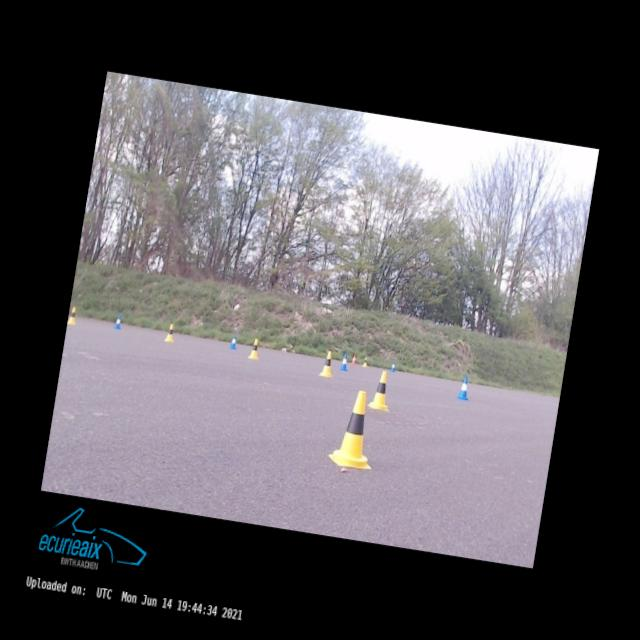blue_cone: (457, 378, 471, 400), (338, 354, 349, 372), (230, 334, 238, 350), (114, 315, 122, 329), (389, 360, 396, 372)
orange_cone: (351, 355, 357, 365)
yellow_cone: (326, 388, 384, 472), (368, 370, 394, 411), (318, 351, 336, 377), (248, 338, 261, 359), (164, 323, 176, 342), (67, 306, 78, 324), (362, 356, 369, 368)
